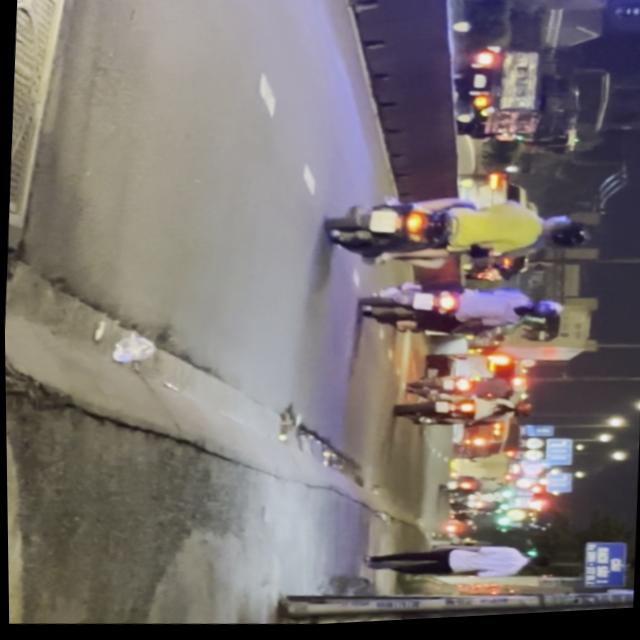helmet: (542, 235, 585, 254)
licenseplate: (322, 187, 594, 282)
motorcyclist: (541, 218, 585, 242)
nohelmet: (368, 213, 396, 238)
